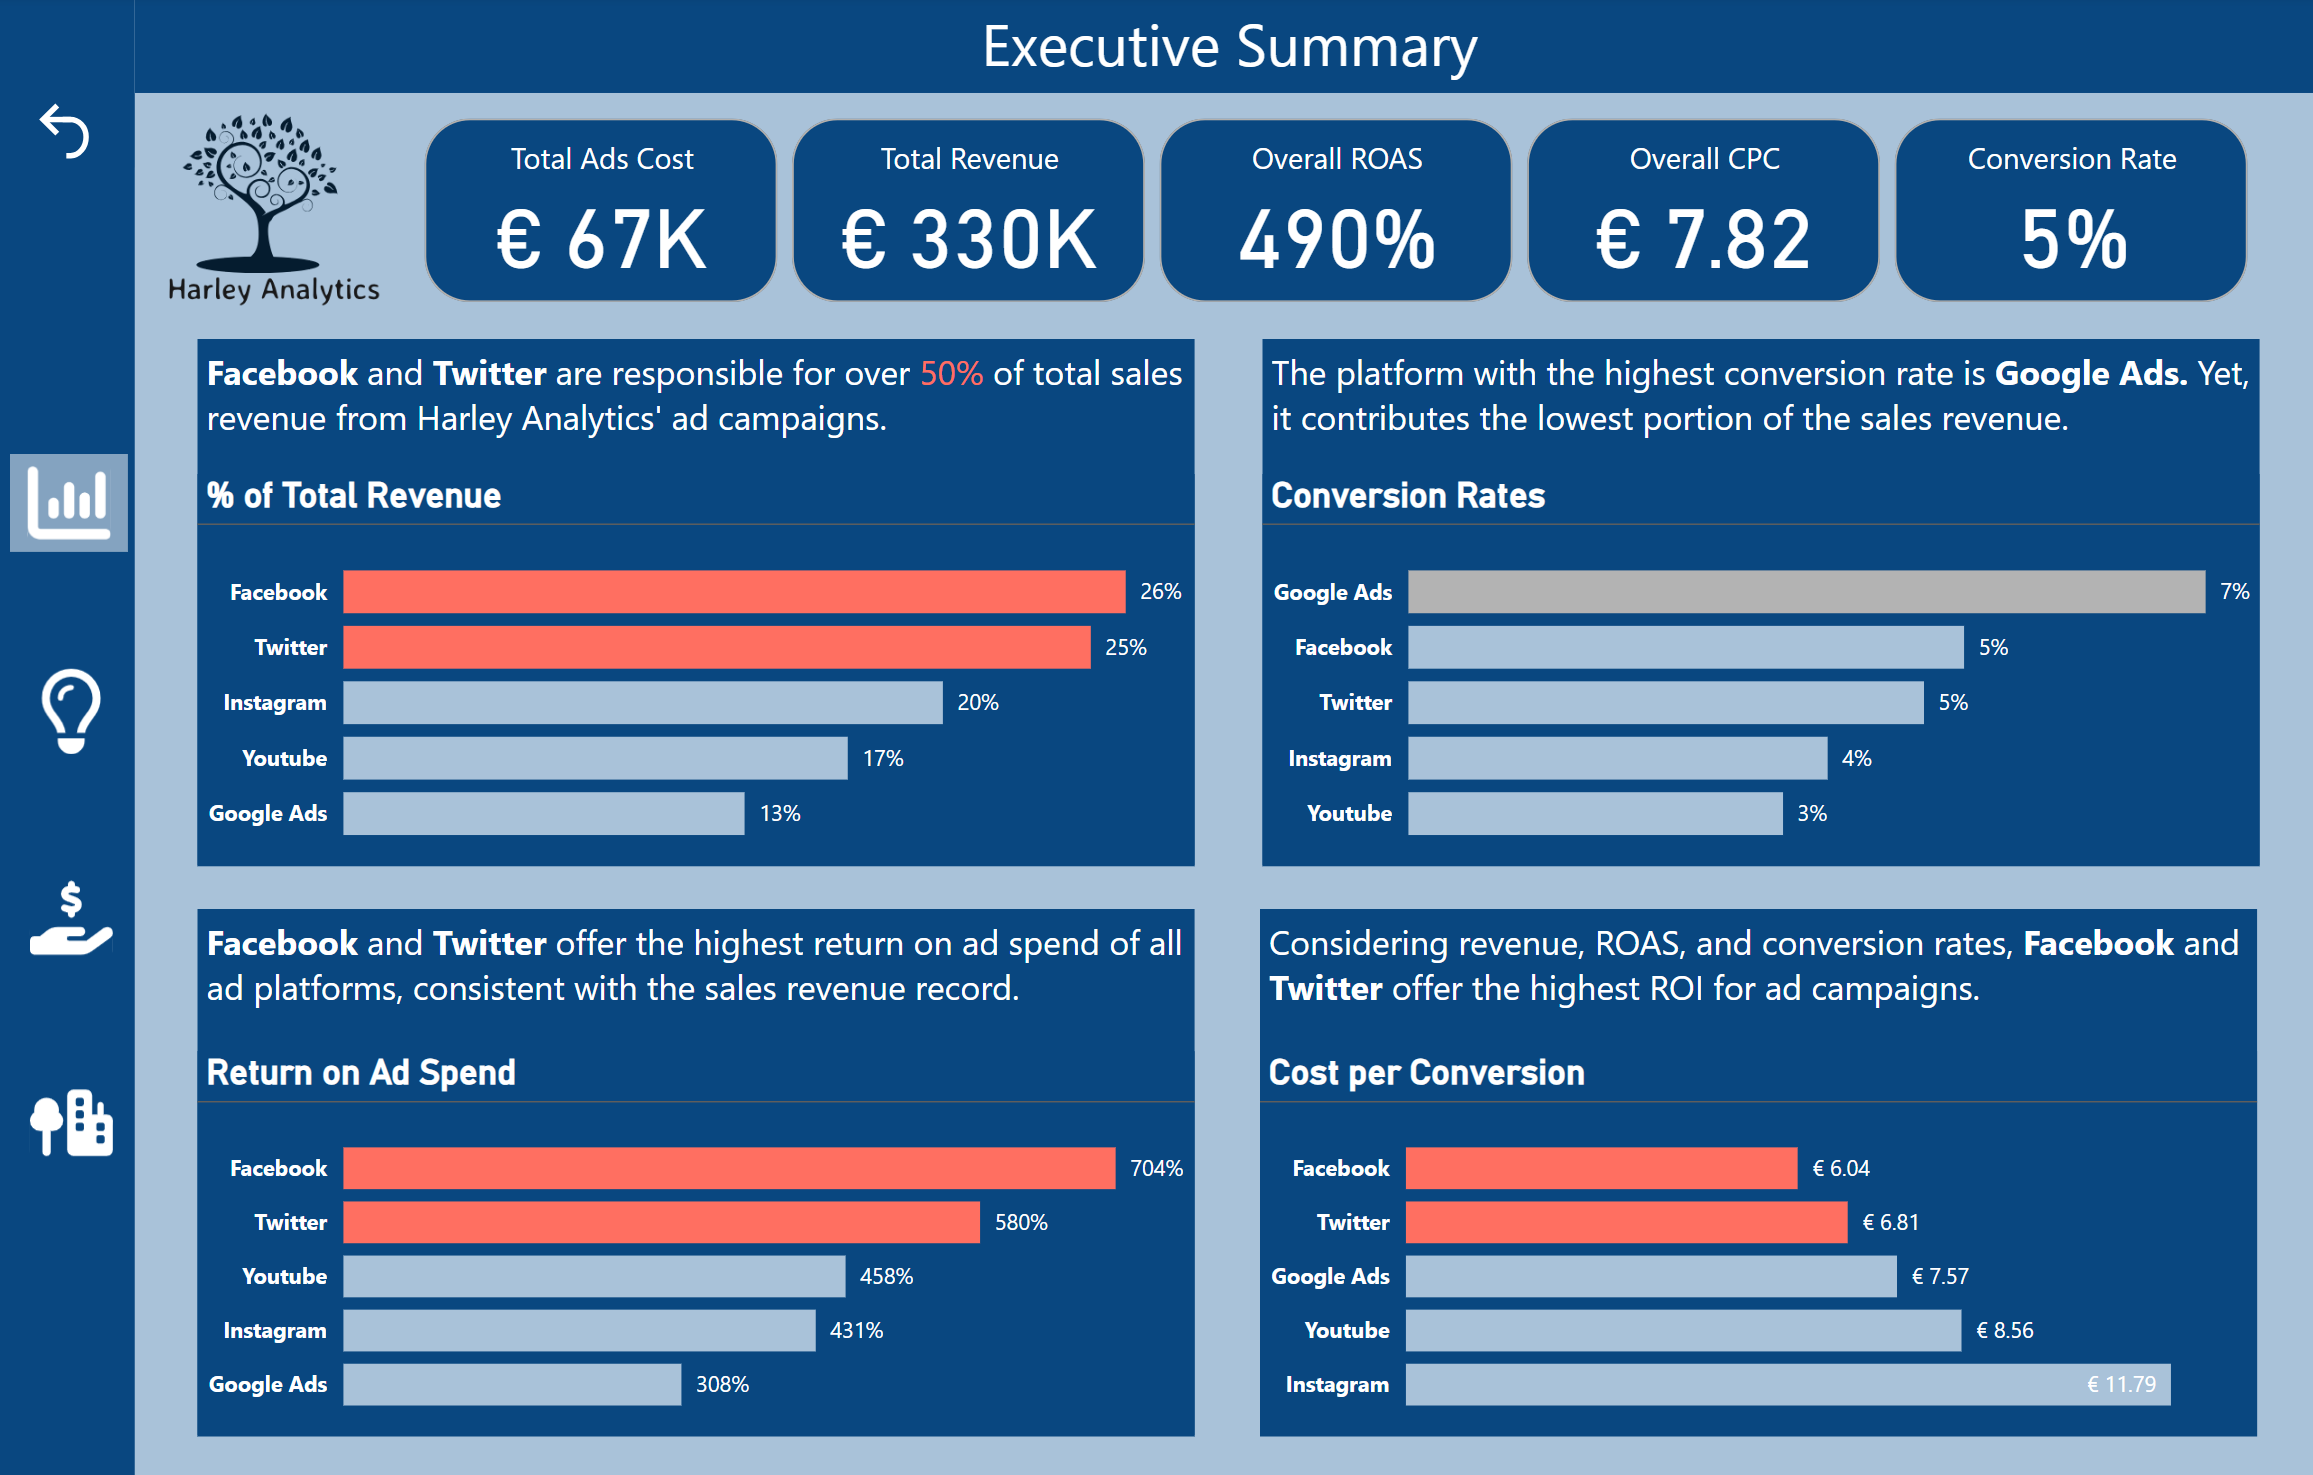

Layout of this report page (visuals, bound fields, positions):
{"tool":"powerbi","page":{"name":"Ad Platform","canvas":[1280,820],"ordinal":0},"visuals":[{"type":"cardVisual","title":"KPIs","fields":{"Data":["DAX Measures.Total Cost","DAX Measures.Total Revenue","DAX Measures.ROAS","DAX Measures.Cost per conversion","DAX Measures.Conversion Rate"]},"box":[231,62.6,1012.9,111.3],"z":0},{"type":"textbox","title":"Revenue insights","box":[111.3,189.2,548.2,289.4],"z":0,"group":"g2"},{"type":"textbox","title":"Conversion rate insight","box":[696,189.6,548.2,289.4],"z":0,"group":"g1"},{"type":"textbox","title":"Conversion rate group","box":[111.3,502.3,548.2,289.4],"z":0,"group":"g3"},{"type":"textbox","title":"Revenue insights","box":[695.7,502.3,548.2,289.4],"z":0,"group":"g4"},{"type":"shape","title":"Page Margin","box":[0,0,76.9,820.3],"z":1000},{"type":"barChart","title":"% of Total Revenue","fields":{"Y":["DAX Measures.Total Revenue"],"Category":["Marketing_data.Platform"]},"box":[111.3,262.9,548.2,215.7],"z":1000,"group":"g2"},{"type":"barChart","title":"Conversion Rates","fields":{"Y":["DAX Measures.Conversion Rate"],"Category":["Marketing_data.Platform"]},"box":[696,263.3,548.2,215.7],"z":1000,"group":"g1"},{"type":"barChart","title":"Return on Ad Spend","fields":{"Category":["Marketing_data.Platform"],"Y":["DAX Measures.ROAS"]},"box":[111.3,580.2,548.2,211.5],"z":1000,"group":"g3"},{"type":"actionButton","title":"Campaigns Button","box":[10.1,479.5,64.6,53.6],"z":2000},{"type":"barChart","title":"Cost per Conversion","fields":{"Category":["Marketing_data.Platform"],"Y":["DAX Measures.Cost per conversion"]},"box":[695.7,580.2,548.2,211.5],"z":2000,"group":"g4"},{"type":"actionButton","title":"Insights button","box":[10.1,365.8,64.6,55],"z":3000},{"type":"actionButton","title":"Platform Button","box":[10,253.2,64.8,53.8],"z":4000},{"type":"image","title":"Company Logo","box":[76.8,56.4,153.5,123.7],"z":5000},{"type":"textbox","title":"Page Title","box":[76.5,0,1203.5,54.3],"z":6000},{"type":"group","id":"g1","title":"Conversion rate grouping","box":[696,189.6,548.2,289.4],"z":7000},{"type":"group","id":"g2","title":"Revenue Group","box":[111.3,189.2,548.2,289.4],"z":8000},{"type":"group","id":"g3","title":"ROAS Group","box":[111.3,502.3,548.2,289.4],"z":9000},{"type":"group","id":"g4","title":"Group 1","box":[695.7,502.3,548.2,289.4],"z":10000},{"type":"actionButton","box":[0,54.9,76.6,40.5],"z":11000}]}

Visuals, with their boxes on the page's 1280x820 design canvas (x1, y1, x2, y2). These are canvas units, not pixel positions in the 2313x1475 screenshot, which may show the page scaled, cropped or inside an application window:
"KPIs" cardVisual: [231,63,1244,174]
"Revenue insights" textbox: [111,189,660,479]
"Conversion rate insight" textbox: [696,190,1244,479]
"Conversion rate group" textbox: [111,502,660,792]
"Revenue insights" textbox: [696,502,1244,792]
"Page Margin" shape: [0,0,77,820]
"% of Total Revenue" barChart: [111,263,660,479]
"Conversion Rates" barChart: [696,263,1244,479]
"Return on Ad Spend" barChart: [111,580,660,792]
"Campaigns Button" actionButton: [10,480,75,533]
"Cost per Conversion" barChart: [696,580,1244,792]
"Insights button" actionButton: [10,366,75,421]
"Platform Button" actionButton: [10,253,75,307]
"Company Logo" image: [77,56,230,180]
"Page Title" textbox: [76,0,1280,54]
"Conversion rate grouping" group: [696,190,1244,479]
"Revenue Group" group: [111,189,660,479]
"ROAS Group" group: [111,502,660,792]
"Group 1" group: [696,502,1244,792]
actionButton: [0,55,77,95]
